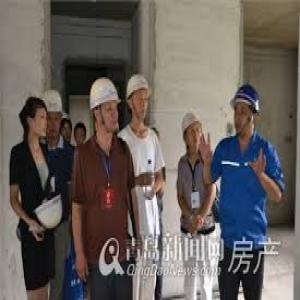blue: (232, 85, 262, 134)
none: (21, 96, 47, 142), (60, 114, 73, 145), (74, 122, 87, 147)
white: (89, 75, 121, 135), (127, 73, 152, 122), (43, 90, 63, 141), (181, 111, 203, 152)
